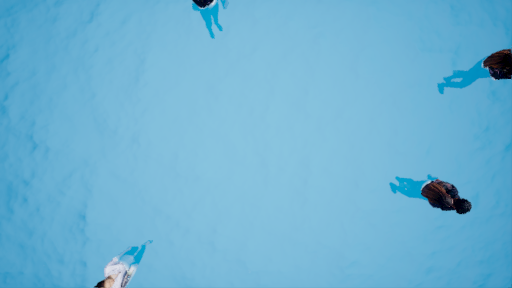person: (85, 238, 171, 288), (385, 172, 478, 217)
